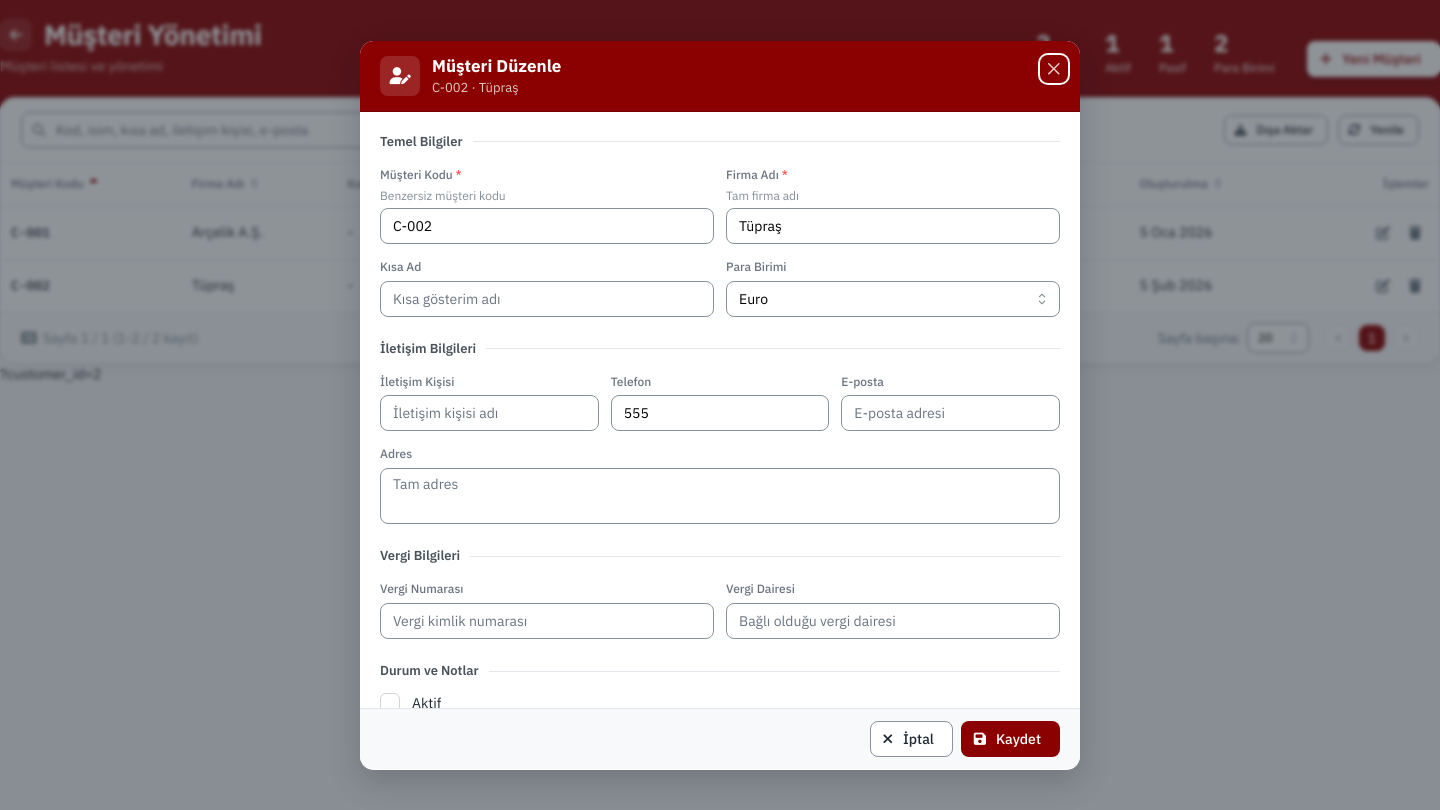
Test: opens the edit modal from ?customer_id and patches the customer
The width and height of the screenshot is (1440, 810).
Expected: the heading "Müşteri Düzenle" is shown, [432,54,561,76]
Expected: the checkbox labelled "Aktif" is not checked, [380,693,400,713]
Replace the text in the field labelled "Firma Adı *" with "Tüpraş A.Ş." at (893, 226), box [726,208,1060,244]
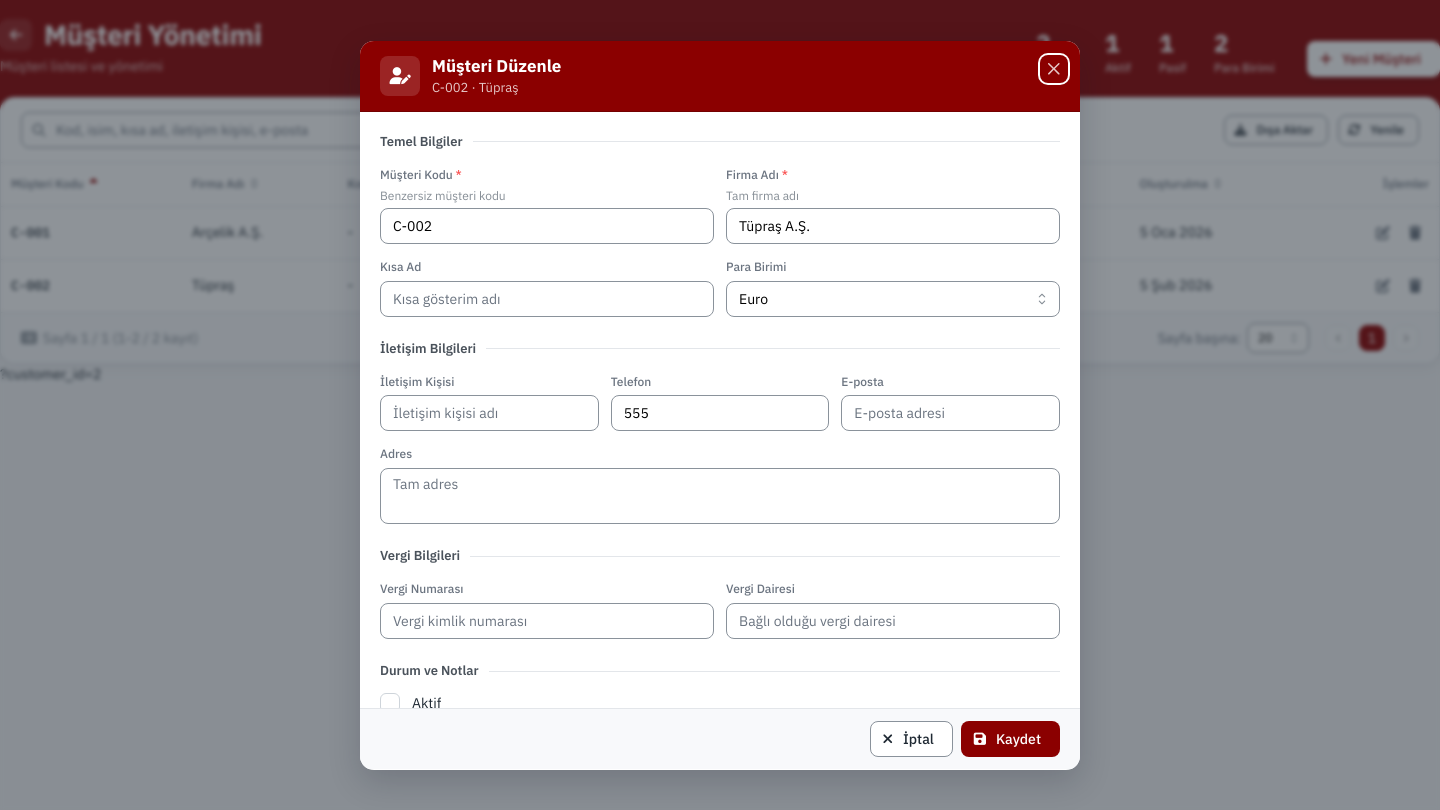
Click the button "Kaydet" at (1010, 740), box [961,722,1060,758]
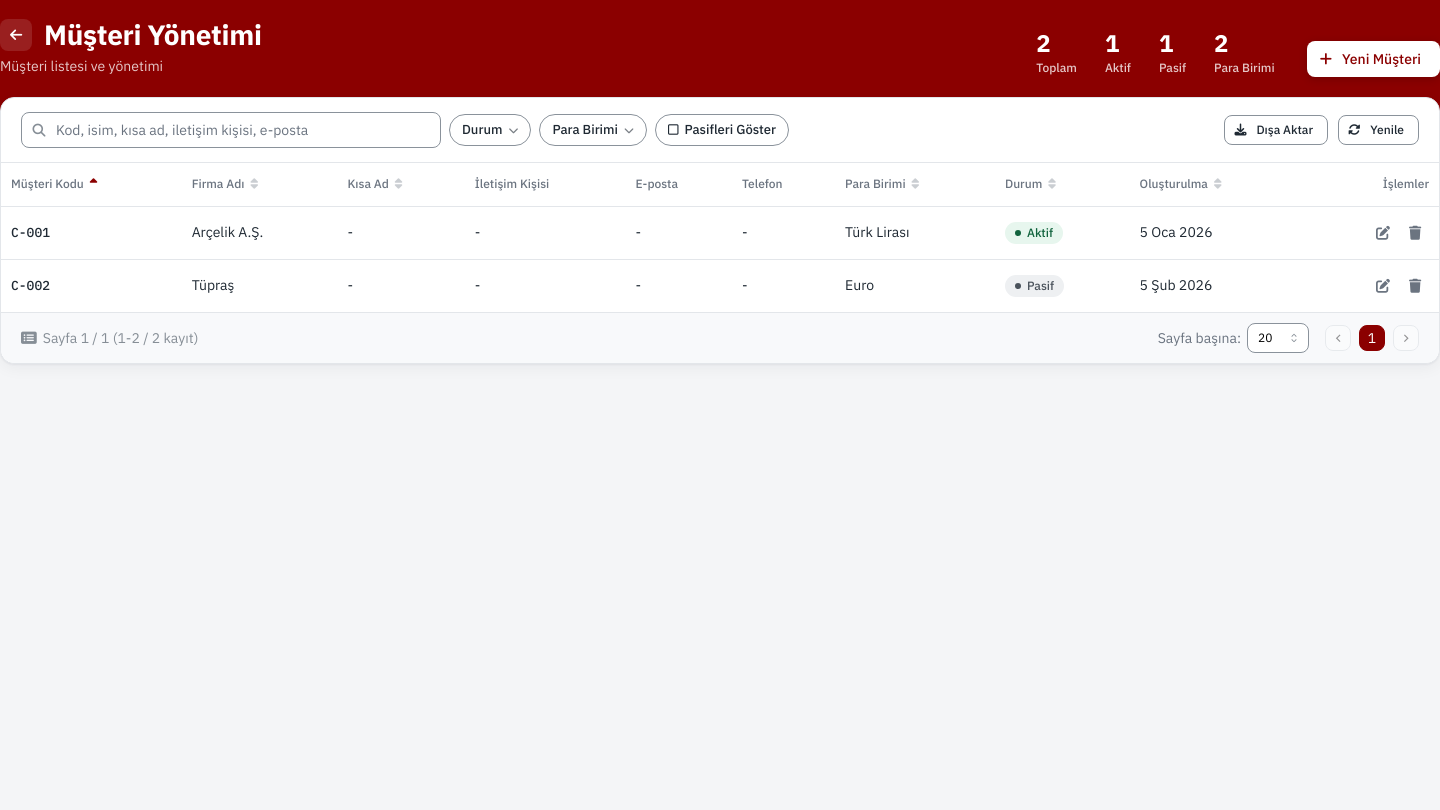
Expected: the text with test id "location" no longer shows "customer_id"
